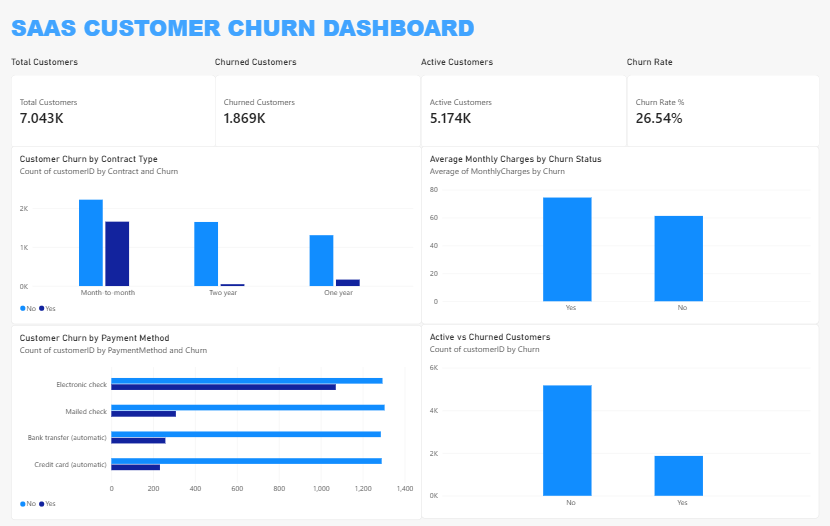

This screenshot's page, from the dashboard's own definition file:
{"tool":"powerbi","page":{"name":"Page 1","canvas":[1920,1080],"ordinal":0},"visuals":[{"type":"cardVisual","title":"Total Customers","fields":{"Data":["Count(cleaned_customers.customerID)"]},"box":[170,130,402.2,180],"z":0},{"type":"cardVisual","title":"Churned Customers","fields":{"Data":["Count(cleaned_customers.customerID)"]},"box":[572.2,130,404.4,180],"z":1000},{"type":"cardVisual","title":"Active Customers","fields":{"Data":["Count(cleaned_customers.customerID)"]},"box":[976.7,130,404.4,180],"z":2000},{"type":"cardVisual","title":"Churn Rate","fields":{"Data":["cleaned_customers.Churn Rate %"]},"box":[1381.1,130,378.9,180],"z":3000},{"type":"clusteredColumnChart","title":"Customer Churn by Contract Type","fields":{"Category":["cleaned_customers.Contract"],"Series":["cleaned_customers.Churn"],"Y":["Count(cleaned_customers.customerID)"]},"box":[170,307.1,807.1,350],"z":4000},{"type":"clusteredColumnChart","title":"Average Monthly Charges by Churn Status","fields":{"Category":["cleaned_customers.Churn"],"Y":["Avg(cleaned_customers.MonthlyCharges)"]},"box":[976.3,306.7,781.9,349.9],"z":5000},{"type":"clusteredBarChart","title":"Customer Churn by Payment Method","fields":{"Category":["cleaned_customers.PaymentMethod"],"Series":["cleaned_customers.Churn"],"Y":["Count(cleaned_customers.customerID)"]},"box":[170,657.1,807.1,382.9],"z":6000},{"type":"clusteredColumnChart","title":"Active vs Churned Customers","fields":{"Category":["cleaned_customers.Churn"],"Y":["Count(cleaned_customers.customerID)"]},"box":[976.3,656.6,781.9,382.3],"z":7000},{"type":"textbox","box":[170,43.3,1110,86.7],"z":8000}]}

Visuals, with their boxes on the page's 1920x1080 design canvas (x1, y1, x2, y2). These are canvas units, not pixel positions in the 830x526 screenshot, which may show the page scaled, cropped or inside an application window:
"Total Customers" cardVisual: 170, 130, 572, 310
"Churned Customers" cardVisual: 572, 130, 977, 310
"Active Customers" cardVisual: 977, 130, 1381, 310
"Churn Rate" cardVisual: 1381, 130, 1760, 310
"Customer Churn by Contract Type" clusteredColumnChart: 170, 307, 977, 657
"Average Monthly Charges by Churn Status" clusteredColumnChart: 976, 307, 1758, 657
"Customer Churn by Payment Method" clusteredBarChart: 170, 657, 977, 1040
"Active vs Churned Customers" clusteredColumnChart: 976, 657, 1758, 1039
textbox: 170, 43, 1280, 130
